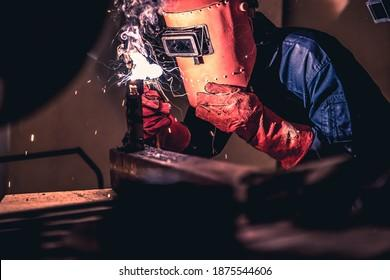gloves: (194, 81, 314, 168), (141, 85, 191, 152)
